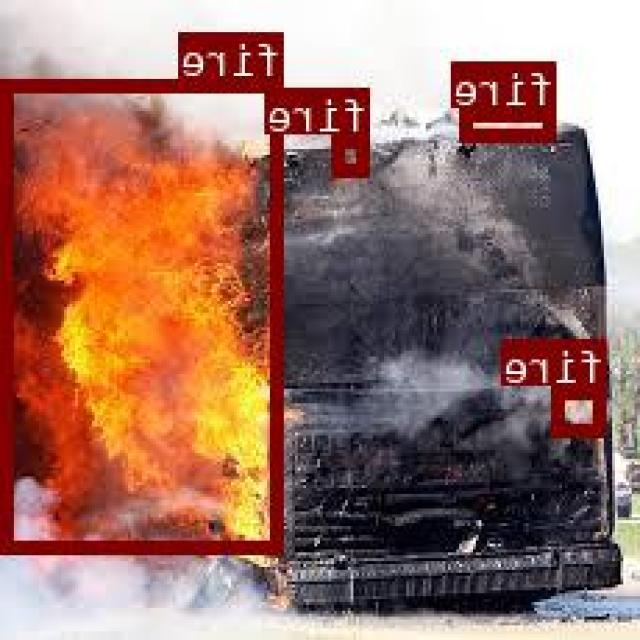fire: (6, 77, 284, 549), (465, 106, 559, 138), (554, 385, 608, 433), (336, 132, 372, 172)
